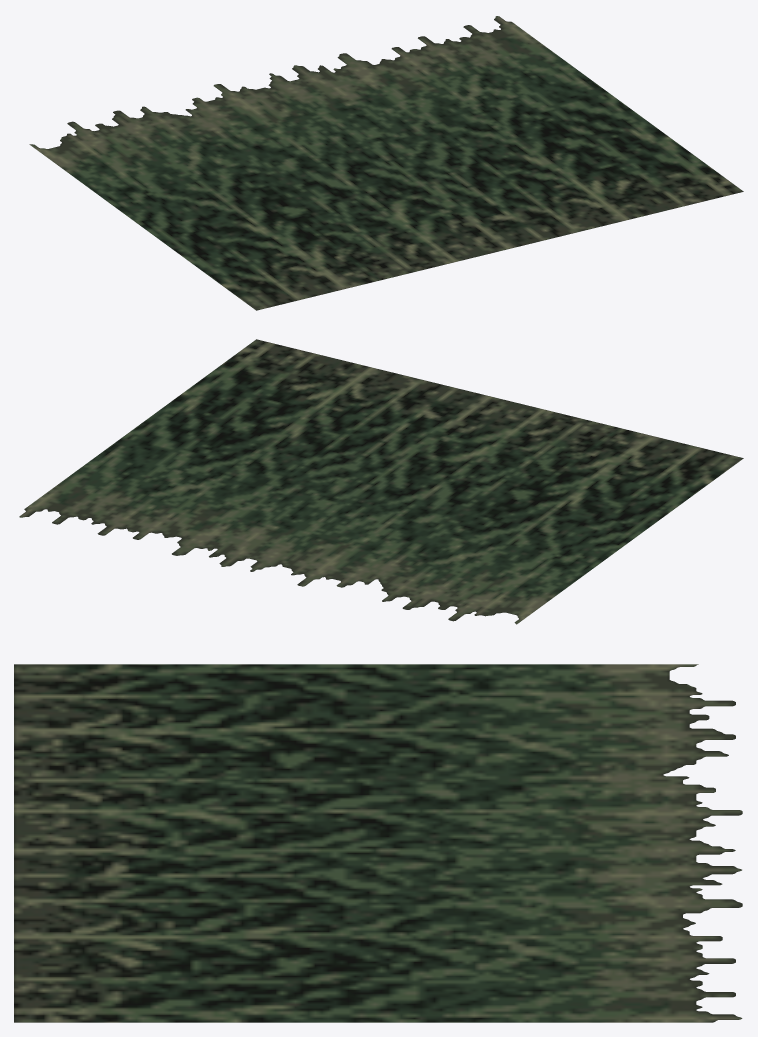
The model's file is SM_EC_Crop_0.fbx.
3 renders of one model, top to bottom at view 1: azimuth 30°, elevation 25°; view 2: azimuth 150°, elevation 25°; view 3: azimuth 270°, elevation 25°, orthographic. The views are drawn at different scales.
Parts seen in each view (by area): view 1: SM_EC_Crop_0; view 2: SM_EC_Crop_0; view 3: SM_EC_Crop_0.
Boxes of the visible parts, box(x1,y1,x2,y2) form: SM_EC_Crop_0: box(29, 16, 743, 310); SM_EC_Crop_0: box(19, 339, 743, 624); SM_EC_Crop_0: box(14, 664, 742, 1022).
Bounding box in the file's own units: 2 × 1.72 × 0.
